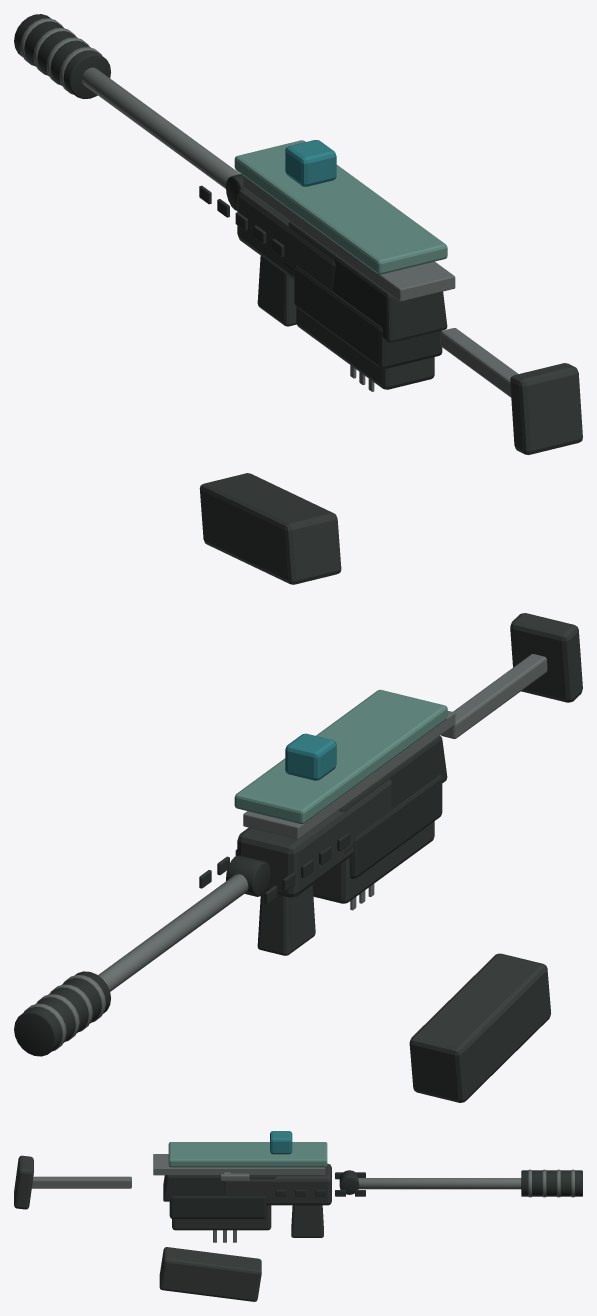
File: scarl.glb
3 views of the same model, one above another, from view 1: azimuth 30°, elevation 25°; view 2: azimuth 150°, elevation 25°; view 3: azimuth 270°, elevation 25° (orthographic). The views are drawn at different scales.
Parts seen in each view (by area): view 1: SpareMagazineBody, UpperMonorail, StockButt, LowerReceiver, UpperReceiver, Handguard, Barrel, TopRail, SuppressorBody, MagazineBody, StockTube, OpticGlass (+1 smaller); view 2: SpareMagazineBody, UpperMonorail, Handguard, StockButt, SuppressorBody, LowerReceiver, Barrel, ForegripBody, TopRail, StockTube, MagazineBody, UpperReceiver (+2 smaller); view 3: SpareMagazineBody, UpperMonorail, Handguard, LowerReceiver, Barrel, TopRail, UpperReceiver, SuppressorBody, StockTube, MagazineBody, ForegripBody, StockButt (+2 smaller).
Boxes of the visible parts, <box> form: SpareMagazineBody: <box>199,473,341,584</box>; UpperMonorail: <box>234,140,447,274</box>; StockButt: <box>510,363,582,454</box>; LowerReceiver: <box>294,265,442,368</box>; UpperReceiver: <box>284,222,447,342</box>; Handguard: <box>237,187,335,291</box>; Barrel: <box>81,67,239,188</box>; TopRail: <box>243,176,455,301</box>; SuppressorBody: <box>14,14,110,98</box>; MagazineBody: <box>296,307,434,389</box>; StockTube: <box>440,328,518,397</box>; OpticGlass: <box>285,140,336,186</box>; SpareMagazineBody: <box>409,953,550,1102</box>; UpperMonorail: <box>234,689,447,824</box>; Handguard: <box>237,779,392,897</box>; StockButt: <box>510,613,582,702</box>; SuppressorBody: <box>14,971,110,1056</box>; LowerReceiver: <box>350,774,442,878</box>; Barrel: <box>98,874,248,991</box>; ForegripBody: <box>257,885,315,955</box>; TopRail: <box>243,711,455,839</box>; StockTube: <box>441,654,547,738</box>; MagazineBody: <box>312,821,434,903</box>; UpperReceiver: <box>338,736,447,853</box>; SpareMagazineBody: <box>159,1247,261,1301</box>; UpperMonorail: <box>168,1142,327,1167</box>; Handguard: <box>223,1163,331,1205</box>; LowerReceiver: <box>169,1196,266,1218</box>; Barrel: <box>358,1178,521,1189</box>; TopRail: <box>153,1154,325,1175</box>; UpperReceiver: <box>163,1175,277,1201</box>; SuppressorBody: <box>521,1170,582,1196</box>; StockTube: <box>32,1176,131,1188</box>; MagazineBody: <box>172,1205,271,1230</box>; ForegripBody: <box>291,1205,323,1237</box>; StockButt: <box>14,1155,33,1209</box>.
Size of the model in its own units: 0.4826 by 0.9486 by 2.58.
